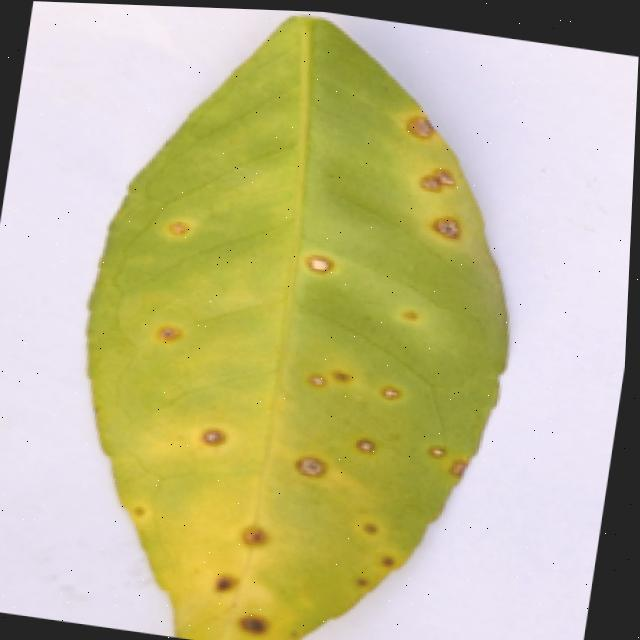canker: (90, 17, 507, 640), (333, 498, 411, 608), (390, 436, 478, 496), (412, 203, 471, 250), (297, 455, 325, 474), (408, 114, 431, 135), (243, 525, 265, 542), (422, 171, 452, 183), (240, 617, 266, 630), (306, 258, 330, 271), (203, 430, 223, 443), (217, 574, 235, 588), (158, 324, 175, 338), (173, 220, 188, 233), (382, 386, 396, 397), (358, 440, 373, 449), (310, 376, 324, 384), (133, 505, 144, 513), (337, 370, 348, 378)
